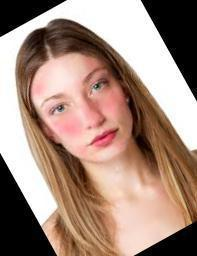Drunk: (35, 61, 129, 159)
